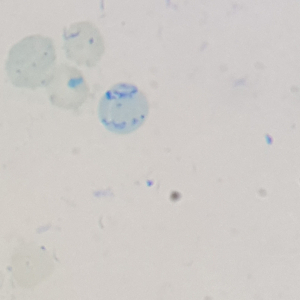aggregate reticulocyte: (95, 81, 151, 136)
erythrocyte: (46, 64, 93, 112), (61, 19, 106, 69)
punctate reticulocyte: (3, 33, 60, 91)
